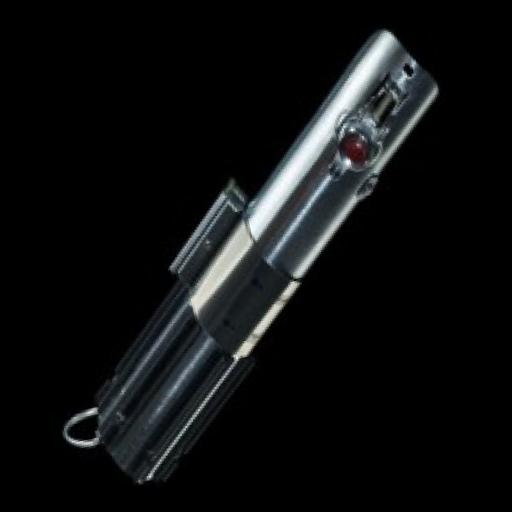lightsaber: (1, 12, 511, 502)
